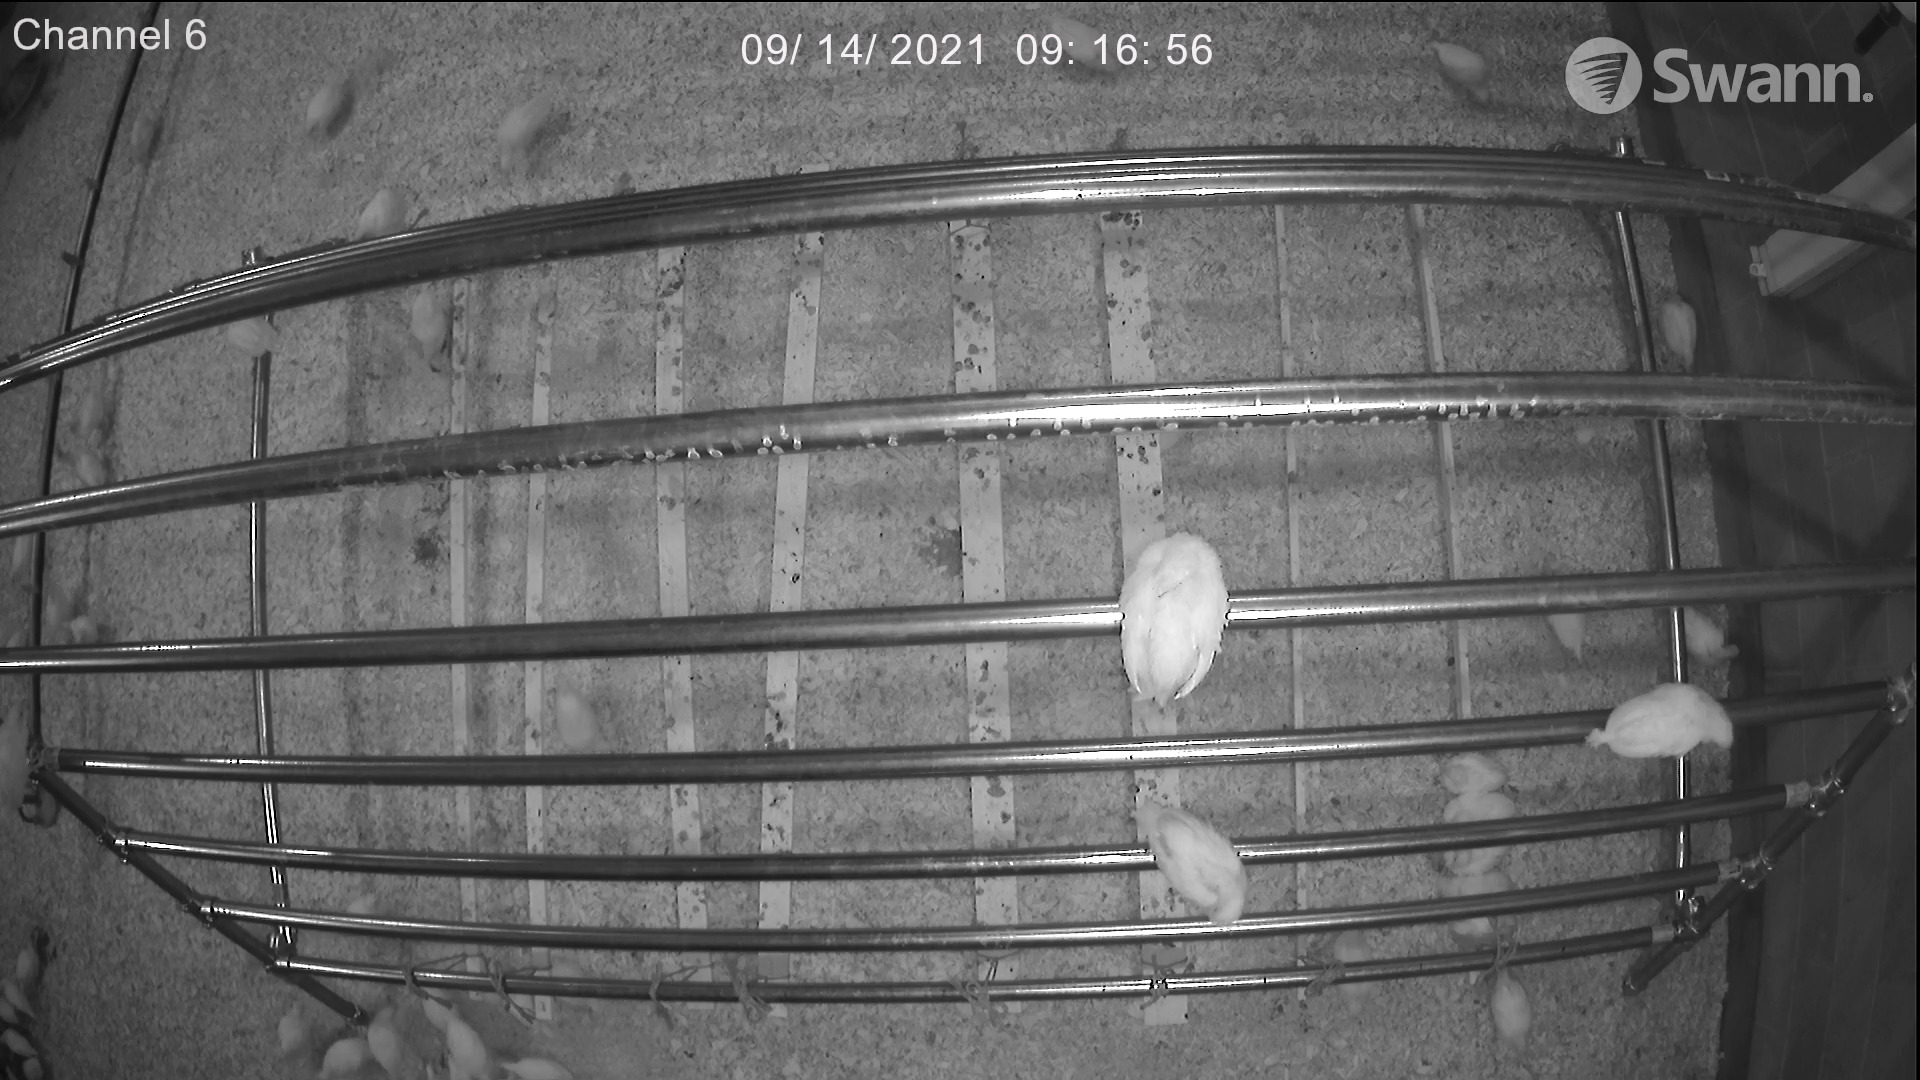Perching: (1087, 521, 1251, 709), (1112, 785, 1267, 938), (1588, 651, 1742, 771), (1427, 746, 1519, 824), (401, 285, 459, 375), (1423, 851, 1534, 891), (216, 316, 289, 367), (1432, 913, 1526, 951)
